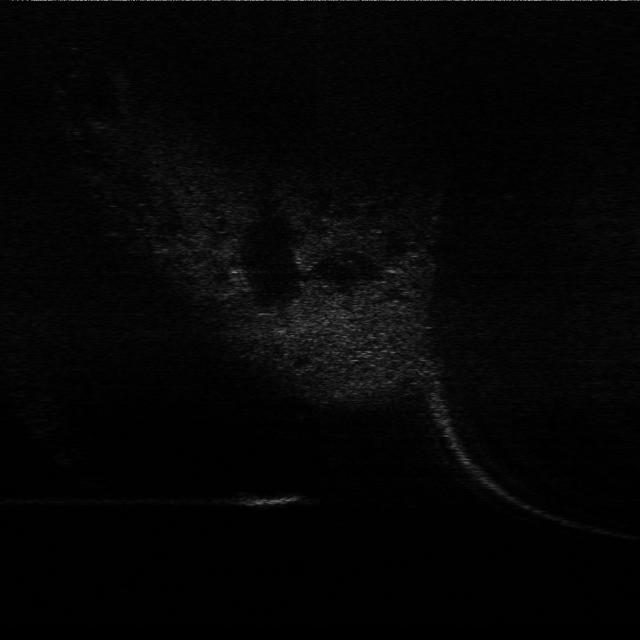square cage: (234, 483, 306, 513)
